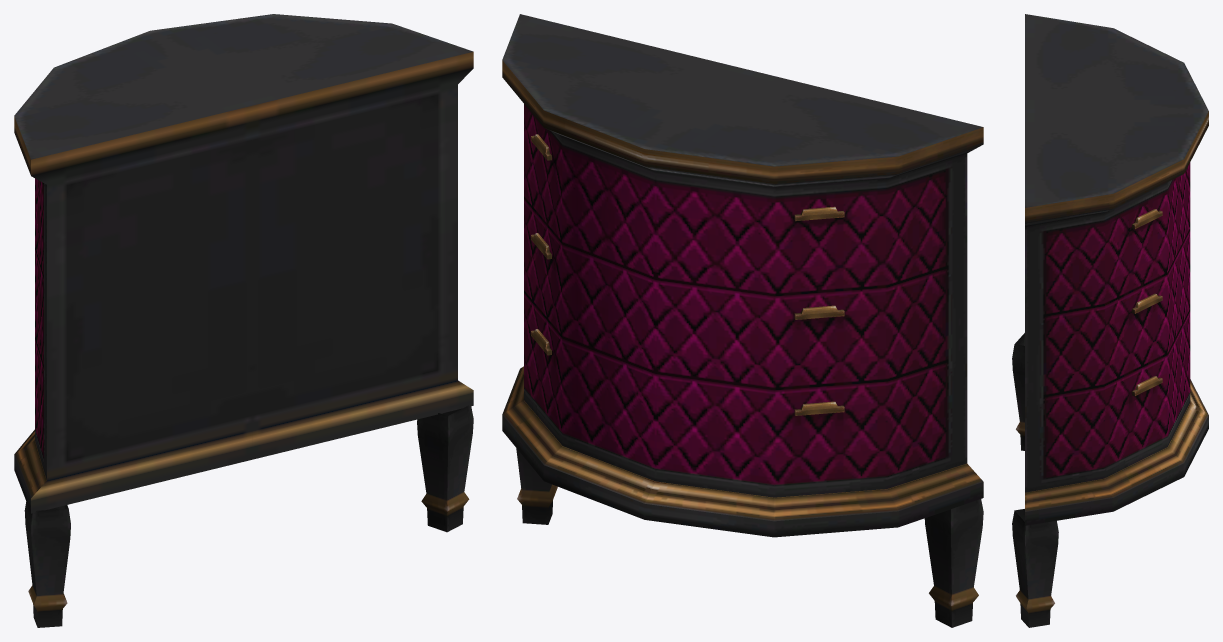
Rendered from furni_0200318_01.FBX.
3 views of the same model, side by side, from view 1: azimuth 30°, elevation 25°; view 2: azimuth 150°, elevation 25°; view 3: azimuth 270°, elevation 25° (orthographic). The views are drawn at different scales.
Parts seen in each view (by area): view 1: furni_0200318_01; view 2: furni_0200318_01; view 3: furni_0200318_01.
Boxes of the visible parts, box(x1,y1,x2,y2) form: furni_0200318_01: box(14, 14, 473, 627); furni_0200318_01: box(502, 14, 983, 627); furni_0200318_01: box(1012, 14, 1208, 627).
Size of the model in its own units: 78.52 by 80 by 33.67.
